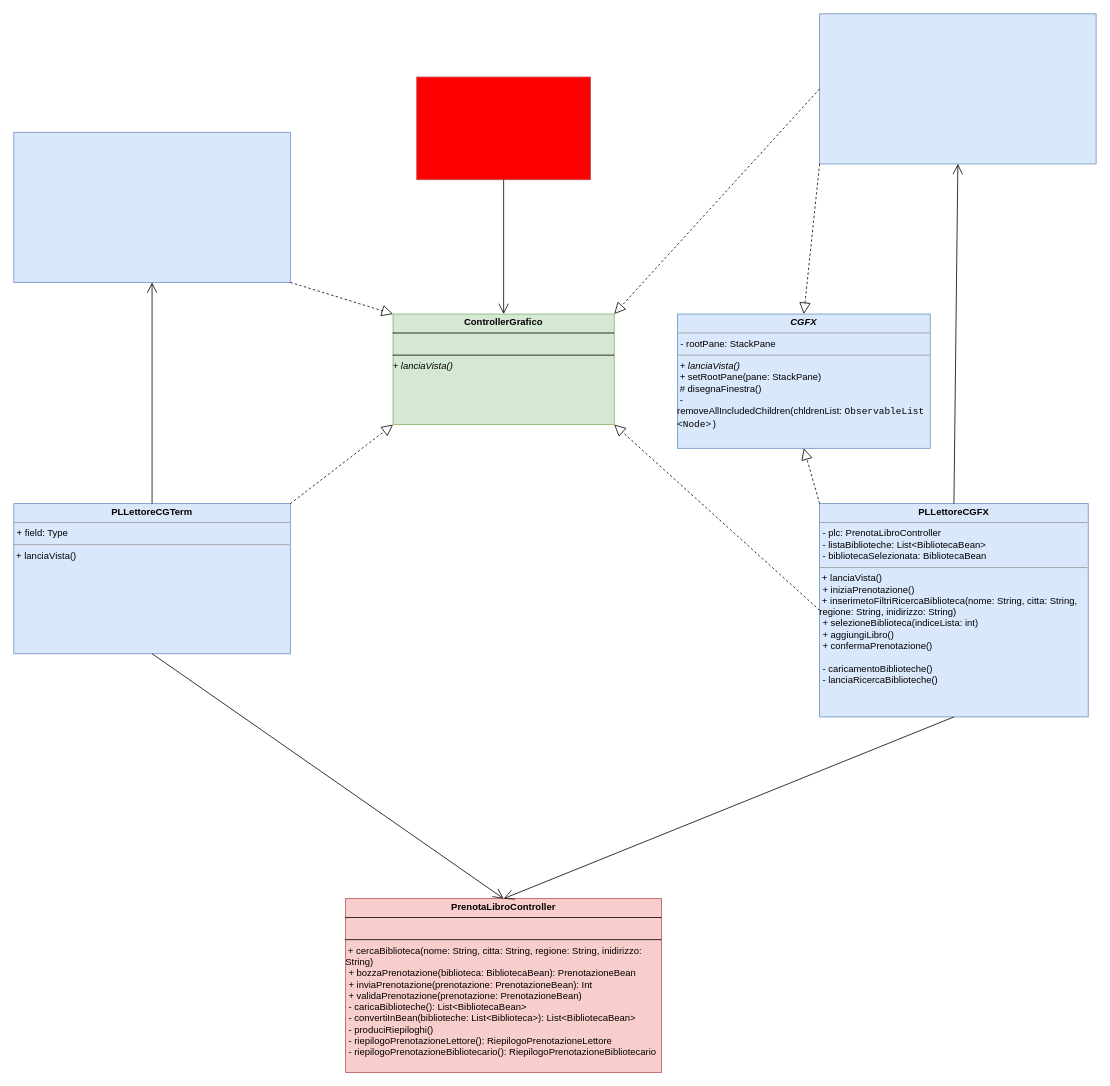
The diagram is 1110 pixels wide and 1086 high, and some of its shapes have lost their labels. Here are the shapes that lost their labels. From the top down, the centre of each, then its label:
(x=957, y=88): IMLLettoreCGFX + field: Type + lanciaVista()
(x=503, y=128): App + field: Type
(x=151, y=207): IMLLettoreCGTerm + field: Type + lanciaVista()
